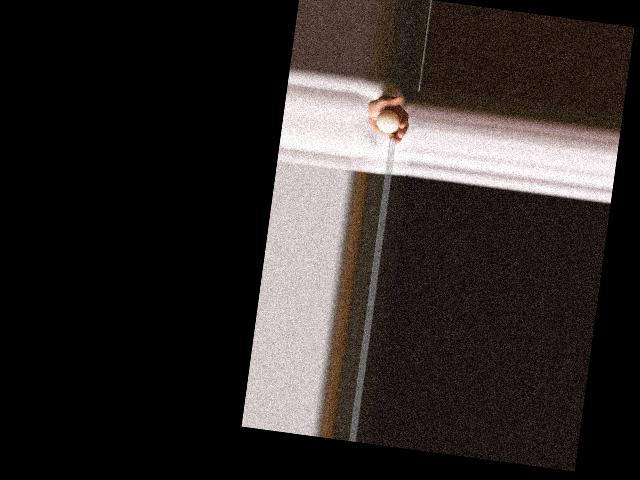egg: (375, 109, 402, 135)
